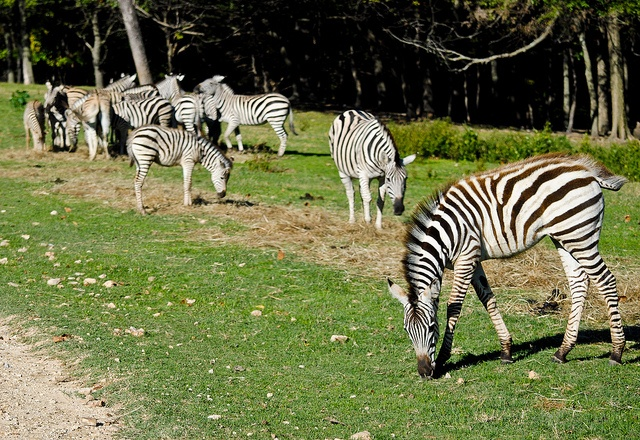zebra: (384, 154, 628, 379), (328, 110, 415, 230), (127, 123, 233, 211), (192, 74, 296, 156), (45, 79, 83, 151), (79, 90, 113, 162), (111, 94, 173, 131), (21, 97, 46, 152)
